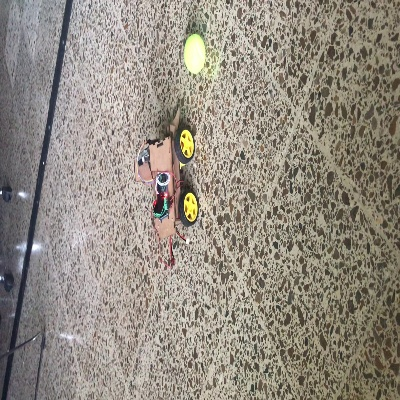Ball: (183, 33, 203, 73)
Robot: (134, 107, 199, 238)
